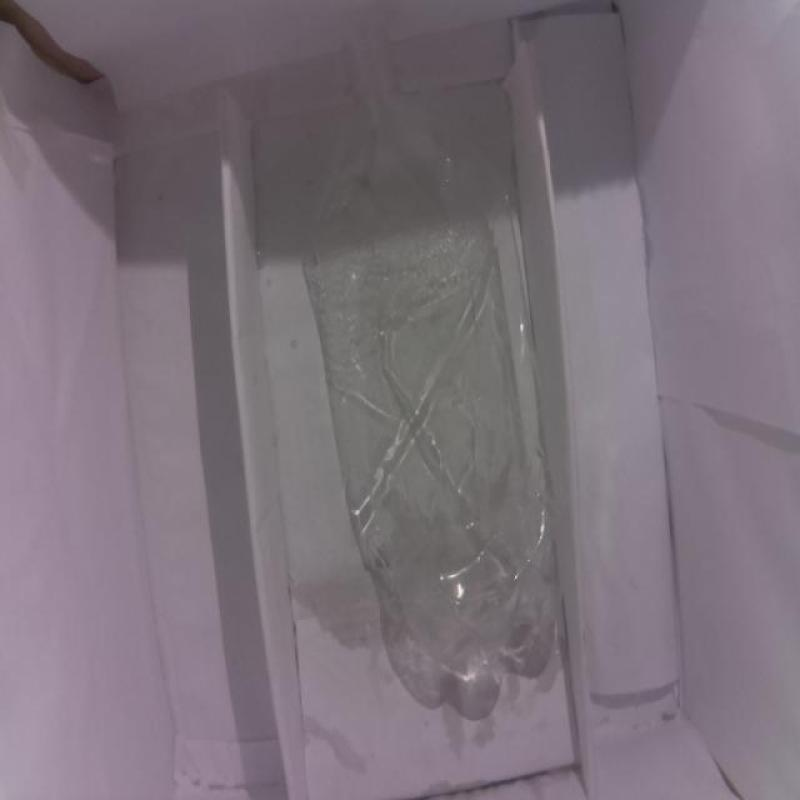botella: (304, 25, 562, 680)
